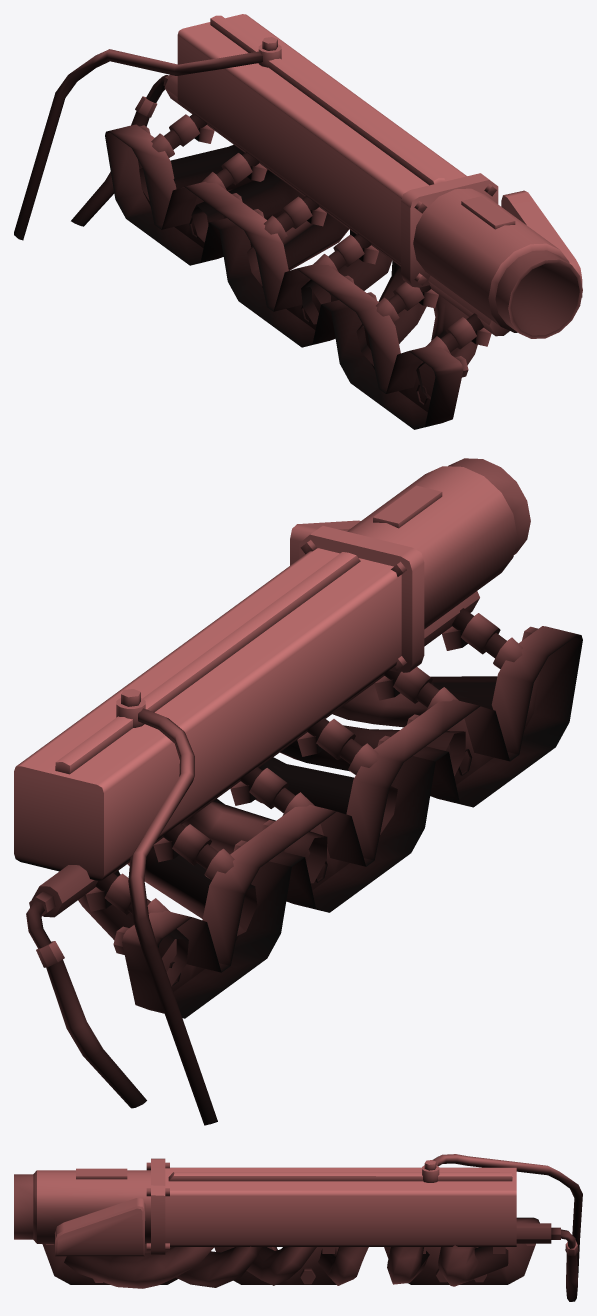
File: JZ_IntakeManifoldTurbo2.fbx
The picture shows the model from 3 angles, top to bottom: view 1: azimuth 30°, elevation 25°; view 2: azimuth 150°, elevation 25°; view 3: azimuth 270°, elevation 25°; orthographic projection. The views are drawn at different scales.
Parts seen in each view (by area): view 1: IntakeManifoldTurbo2; view 2: IntakeManifoldTurbo2; view 3: IntakeManifoldTurbo2.
Boxes of the visible parts, x1,y1,x2,y2 form: IntakeManifoldTurbo2: (14,14,582,429); IntakeManifoldTurbo2: (14,458,582,1125); IntakeManifoldTurbo2: (14,1154,582,1301).
Bounding box in the file's own units: 27.84 × 26.94 × 79.55.
